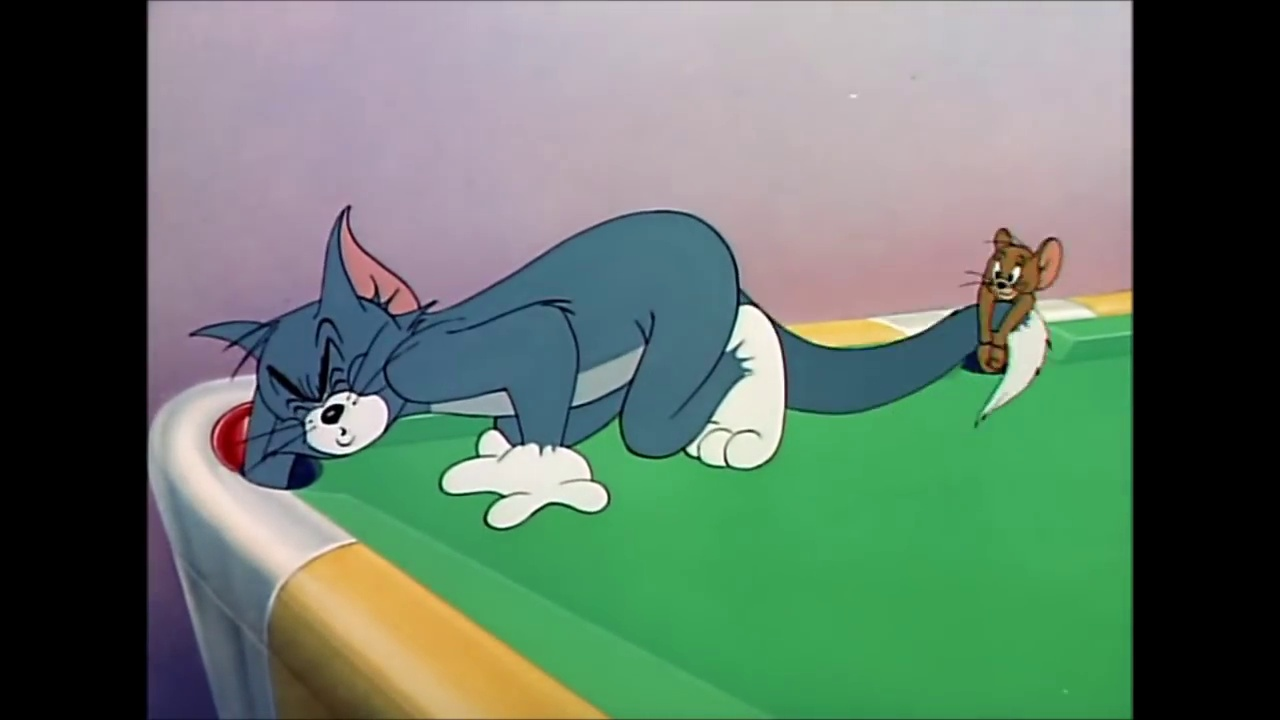happy: (988, 252, 1026, 300)
